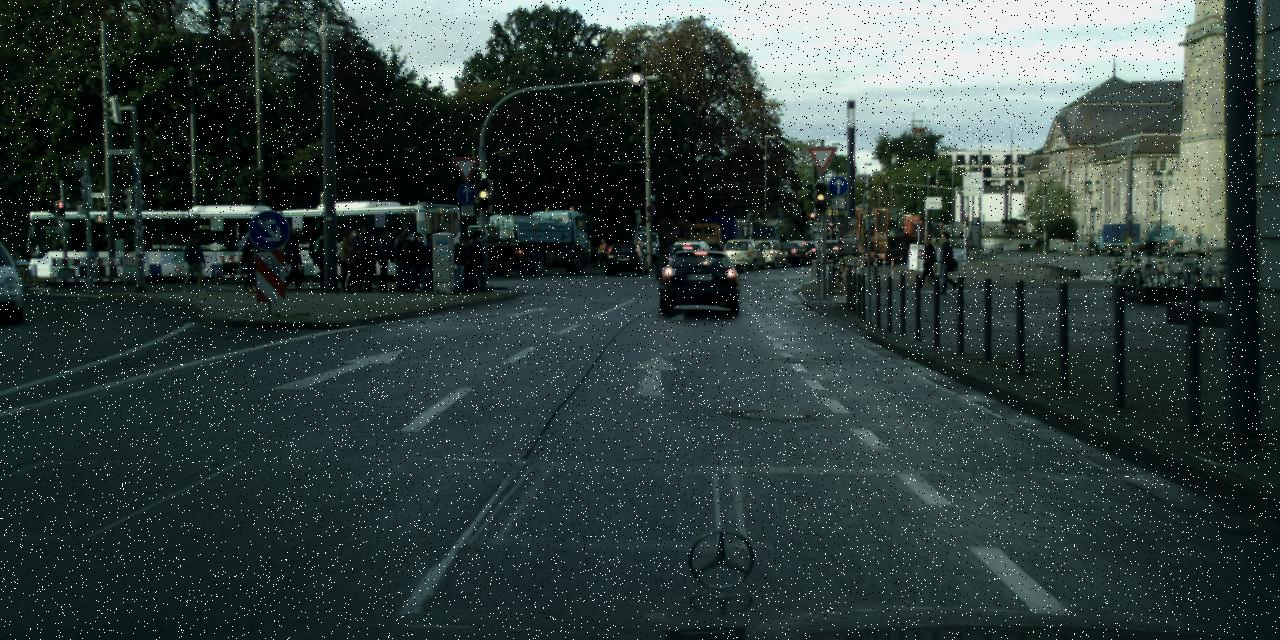ped: (410, 228, 444, 292), (281, 226, 307, 290), (335, 228, 361, 291), (358, 227, 383, 291), (372, 227, 397, 291), (464, 229, 489, 292), (392, 229, 417, 291), (350, 225, 374, 288), (342, 229, 366, 292), (393, 231, 418, 291), (934, 230, 958, 292), (460, 232, 483, 292), (182, 234, 205, 292), (312, 229, 335, 287), (359, 229, 382, 287), (916, 236, 938, 290), (449, 236, 471, 290), (314, 237, 335, 288), (16, 238, 36, 286), (242, 237, 256, 294), (595, 238, 607, 268), (633, 235, 644, 262)
